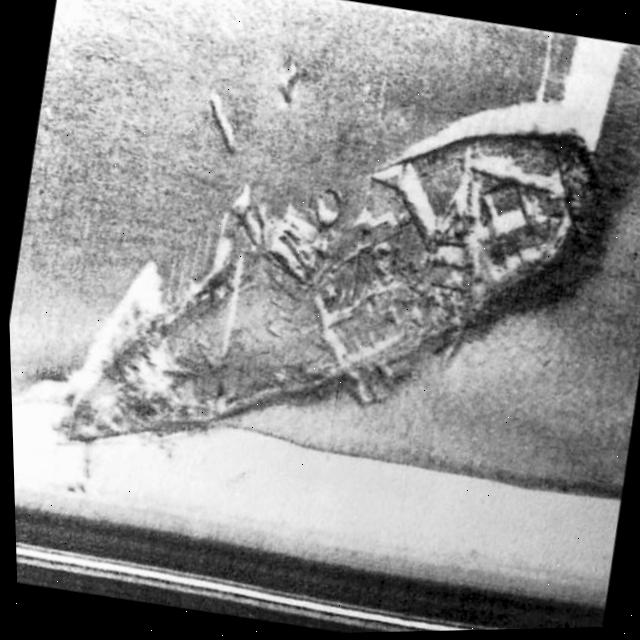shipwreck: (42, 68, 610, 521)
